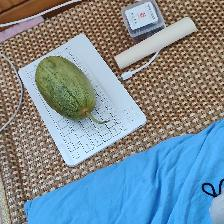gua: (35, 61, 92, 124)
